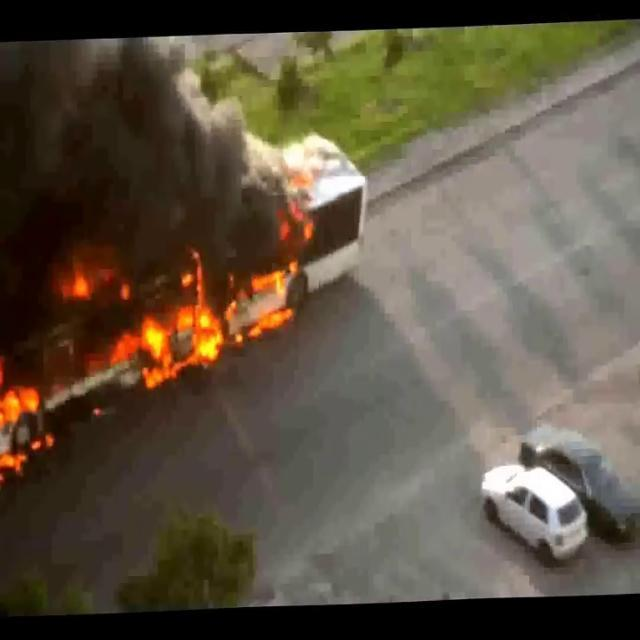Fire: (126, 284, 229, 384), (0, 345, 40, 459)
Smoke: (0, 36, 274, 343)
